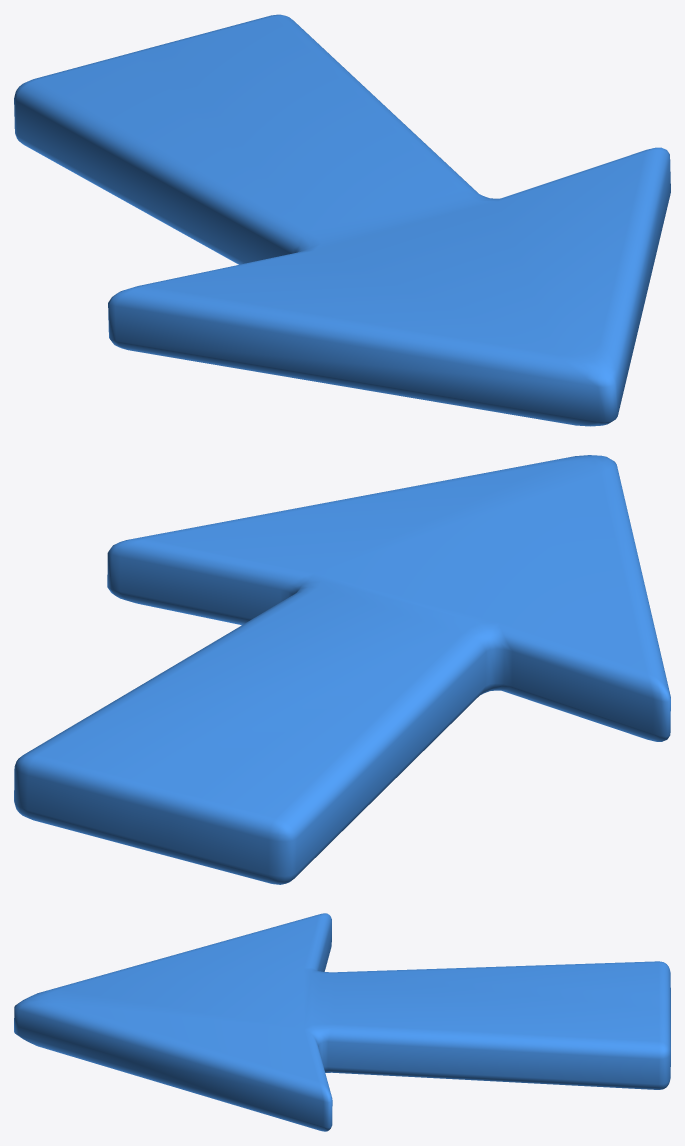
Rendered from dirarrow.glb.
3 renders of one model, top to bottom at view 1: azimuth 30°, elevation 25°; view 2: azimuth 150°, elevation 25°; view 3: azimuth 270°, elevation 25°, orthographic. The views are drawn at different scales.
Visible parts, largest first — view 1: Arrow; view 2: Arrow; view 3: Arrow.
Boxes of the visible parts, x1,y1,x2,y2 form: Arrow: (14,14,670,426); Arrow: (14,455,670,884); Arrow: (14,913,670,1131).
Bounding box in the file's own units: 2.11 × 0.2822 × 3.01.
